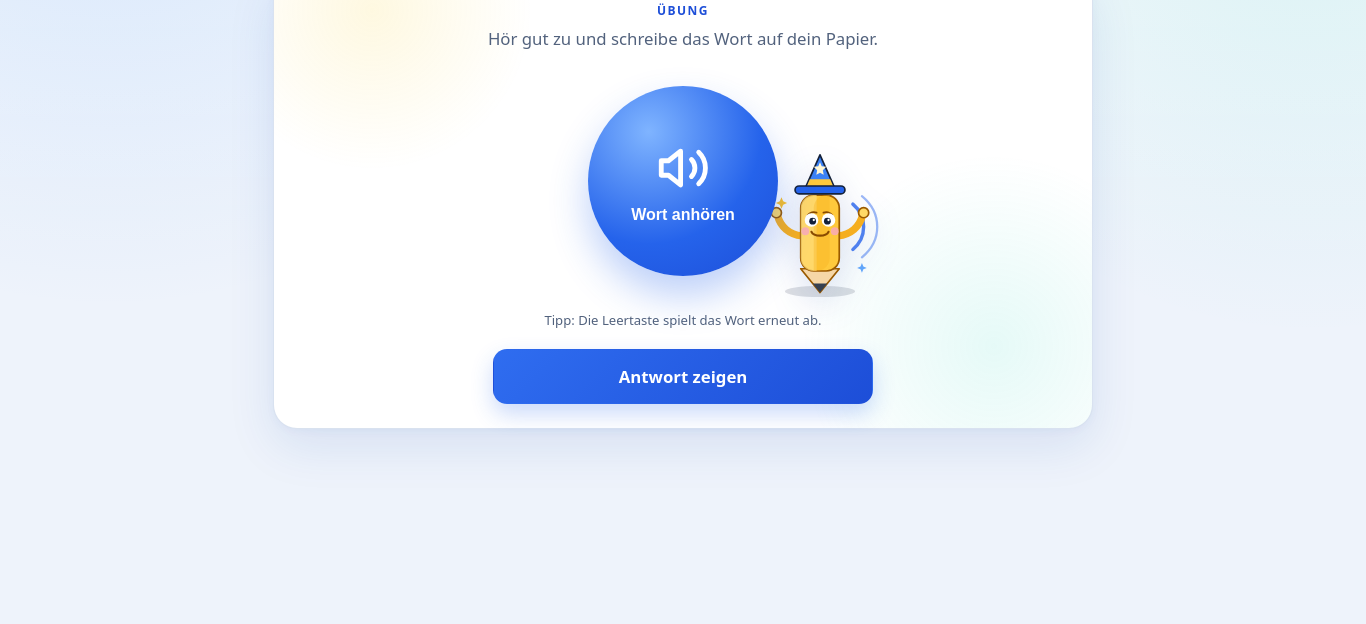
Test: SessionPage › shows a storage error and never claims the result was saved
Click the button "Antwort zeigen": coordinates (683, 377) [493, 349, 873, 404]
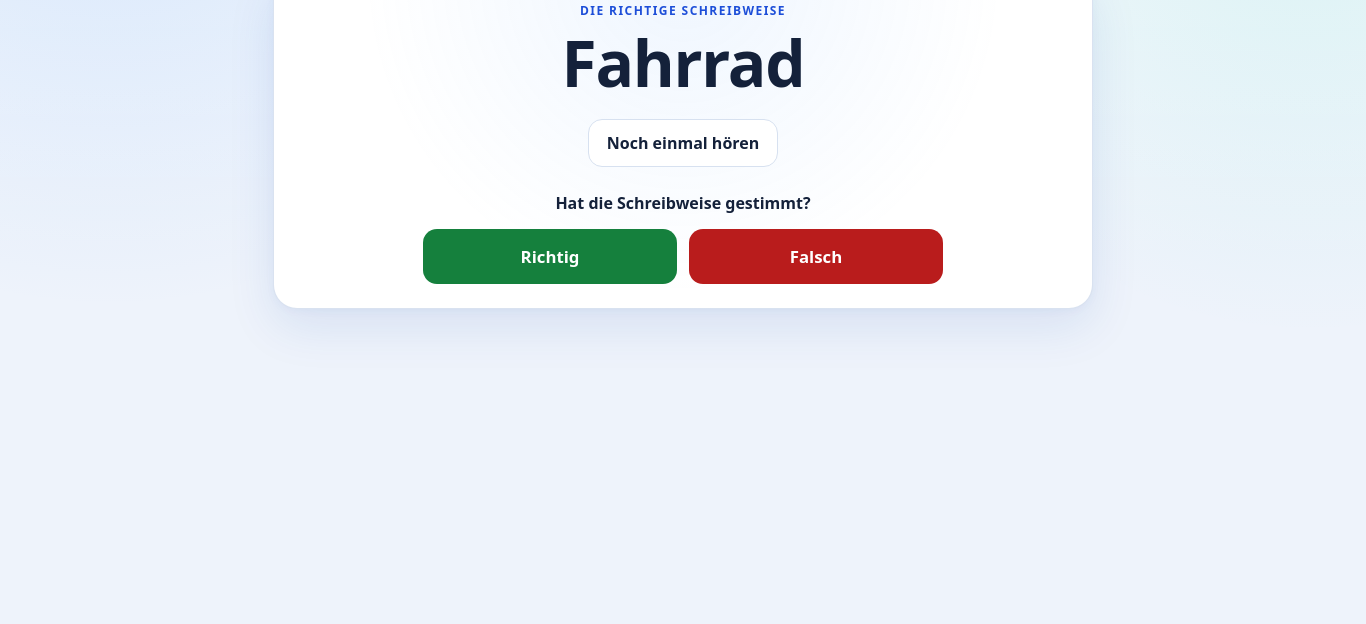
Click the button "Richtig": coordinates (550, 256) [423, 228, 677, 284]
(page scrolled)
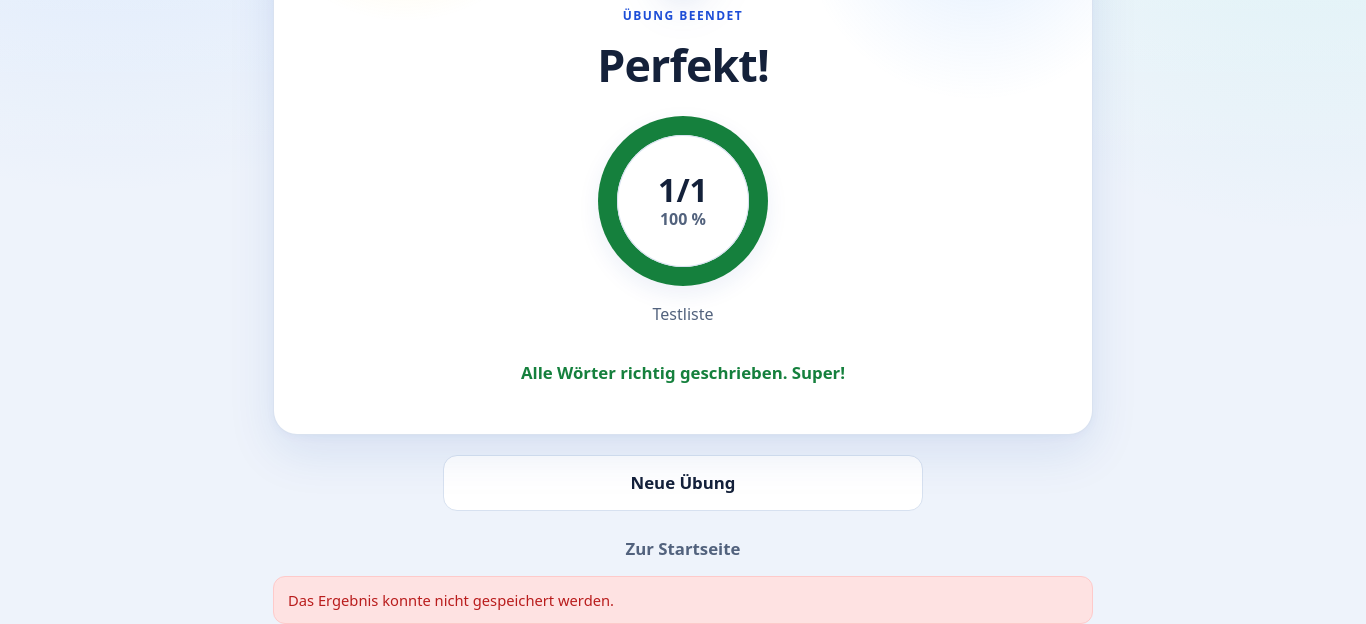
Result: the text "Das Ergebnis konnte nicht gespeichert werden." is shown at [273, 576, 1093, 623]
